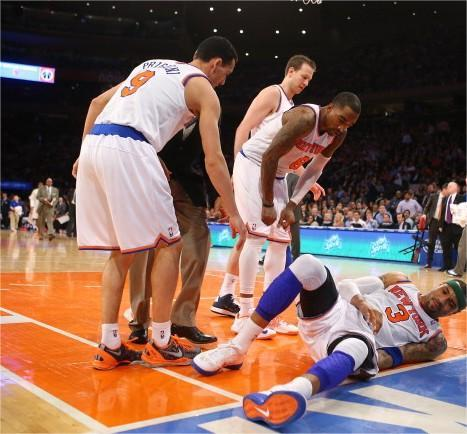bending: (75, 38, 249, 377), (227, 89, 361, 335)
down: (194, 254, 467, 426)
